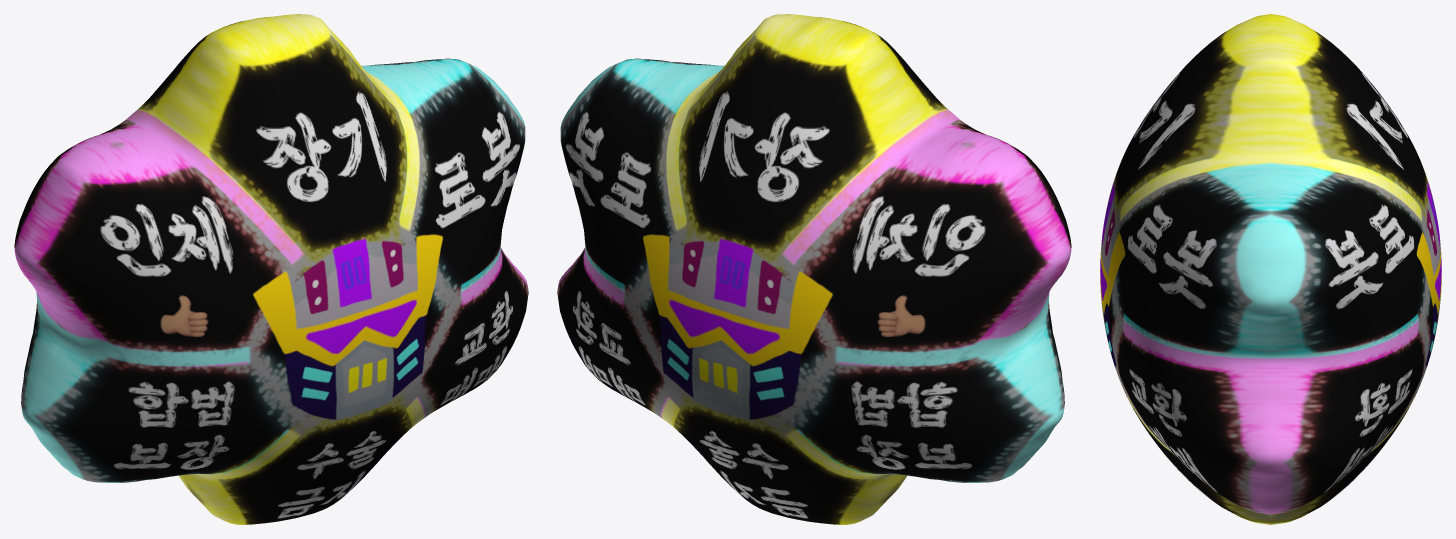
Rendered from NeonTrade.70729ed0.glb.
The picture shows the model from 3 angles, left to right: view 1: azimuth 30°, elevation 25°; view 2: azimuth 150°, elevation 25°; view 3: azimuth 270°, elevation 25°; orthographic projection. The views are drawn at different scales.
Bounding box in the file's own units: 6.61 × 6.11 × 4.01.
Materials: 1 (1 with a texture image).
